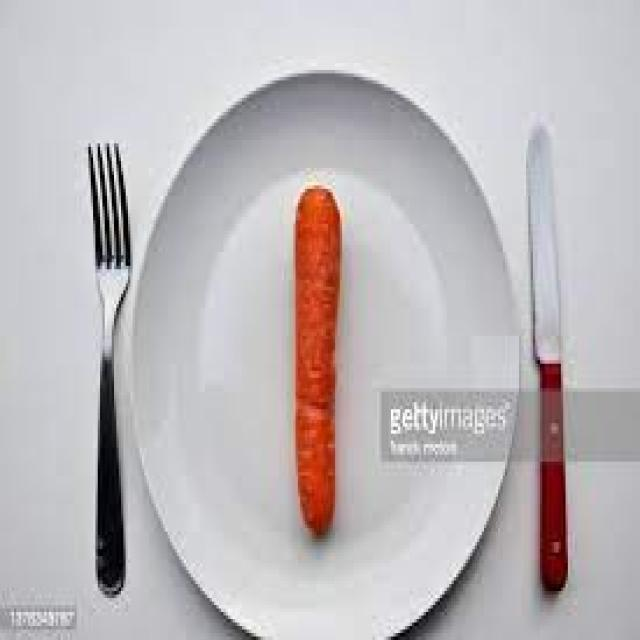carrot: (293, 182, 340, 535)
